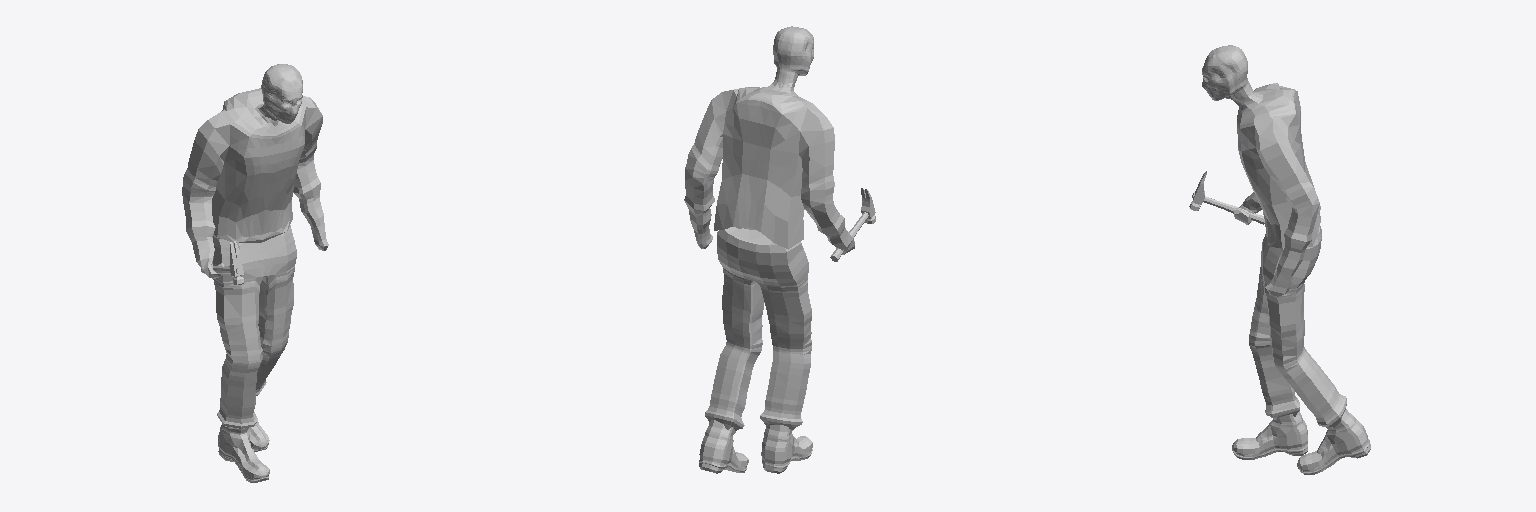
Rendered from Murderer_Step203.obj.
3 renders of one model, left to right at view 1: azimuth 30°, elevation 25°; view 2: azimuth 150°, elevation 25°; view 3: azimuth 270°, elevation 25°, orthographic.
Parts seen in each view (by area): view 1: Körper, Beine, Stiefel, Hammer; view 2: Körper, Beine, Stiefel, Hammer; view 3: Körper, Beine, Stiefel, Hammer.
Boxes of the visible parts, <box> form: Körper: <box>182,64,328,278</box>; Beine: <box>213,225,296,428</box>; Stiefel: <box>218,404,269,482</box>; Hammer: <box>201,241,243,284</box>; Körper: <box>684,26,854,254</box>; Beine: <box>705,227,811,433</box>; Stiefel: <box>699,420,812,473</box>; Hammer: <box>830,188,875,261</box>; Körper: <box>1202,45,1320,296</box>; Beine: <box>1249,226,1346,427</box>; Stiefel: <box>1232,409,1370,474</box>; Hammer: <box>1189,171,1264,224</box>.
Bounding box in the file's own units: 0.3426 × 0.9622 × 0.3814.